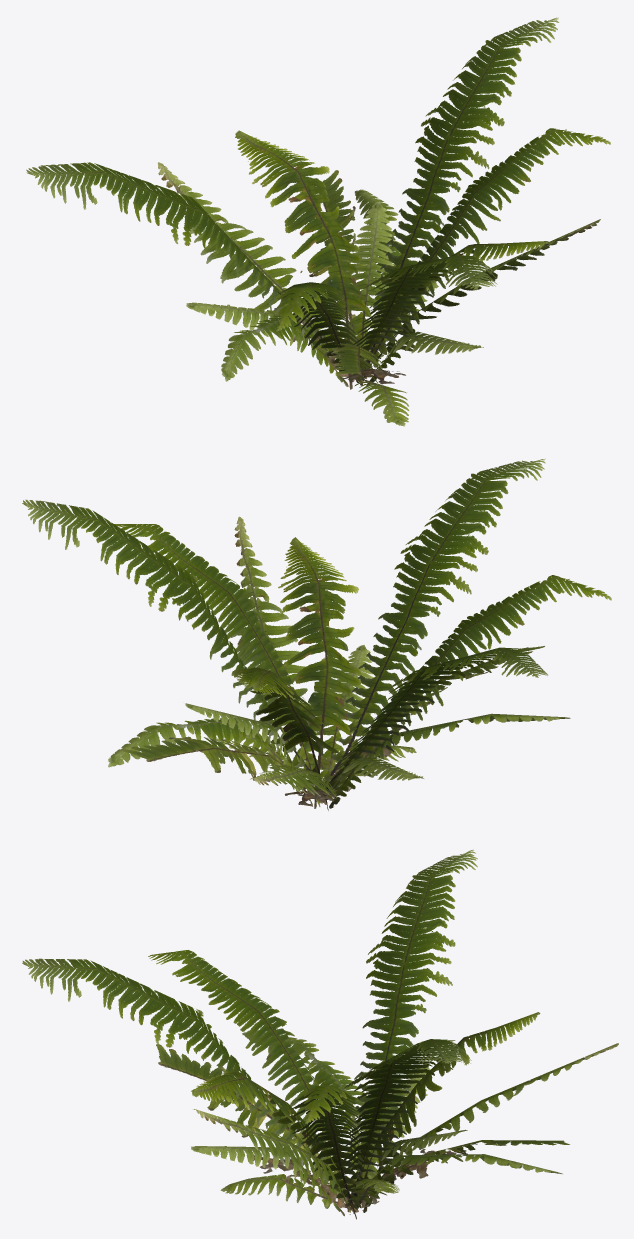
Rendered from fern.glb.
The picture shows the model from 3 angles, top to bottom: view 1: azimuth 30°, elevation 25°; view 2: azimuth 150°, elevation 25°; view 3: azimuth 270°, elevation 25°; orthographic projection. The views are drawn at different scales.
Visible parts, largest first — view 1: Object_2; view 2: Object_2; view 3: Object_2.
Boxes of the visible parts, box(x1,y1,x2,y2) form: Object_2: box(26, 17, 610, 426); Object_2: box(22, 458, 611, 810); Object_2: box(22, 849, 618, 1219).
Bounding box in the file's own units: 228 × 113 × 224.
1 material, 1 textured.
